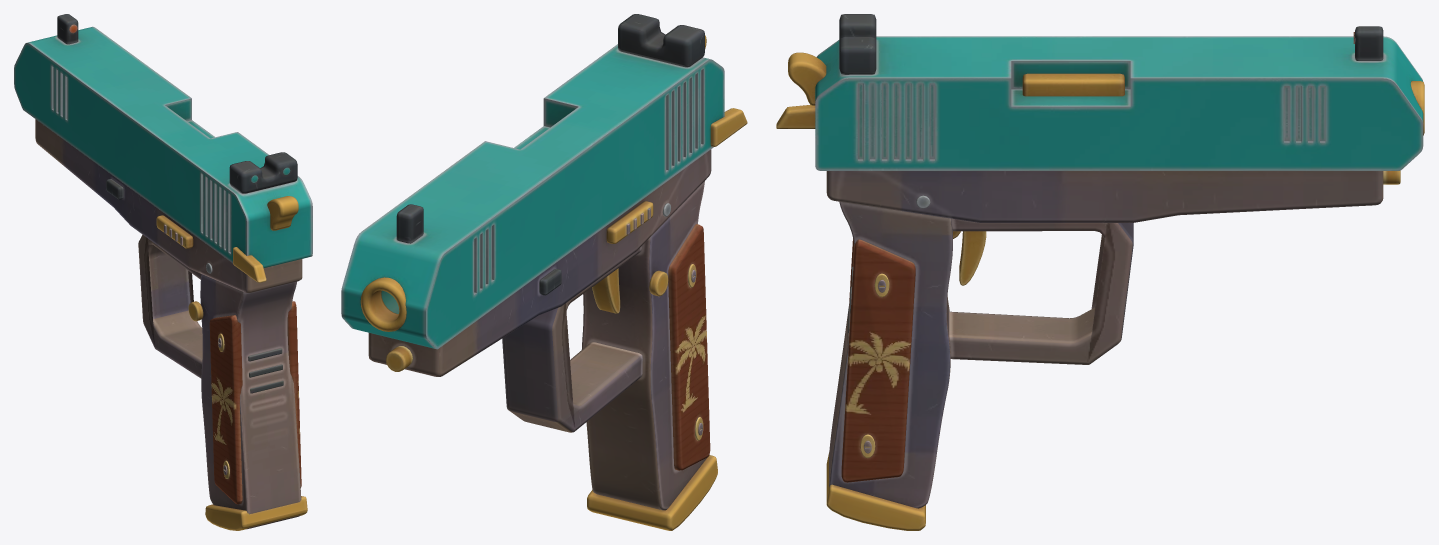
File: pistol.glb
The picture shows the model from 3 angles, left to right: view 1: azimuth 30°, elevation 25°; view 2: azimuth 150°, elevation 25°; view 3: azimuth 270°, elevation 25°; orthographic projection. The views are drawn at different scales.
Visible parts, largest first — view 1: pistol_body, pistol_slide, pistol_mag, pistol_hammer, pistol_release; view 2: pistol_slide, pistol_body, pistol_mag, pistol_release, pistol_trigger; view 3: pistol_slide, pistol_body, pistol_mag, pistol_hammer, pistol_trigger.
Boxes of the visible parts, x1,y1,x2,y2 form: pistol_body: (35,119,302,529); pistol_slide: (14,14,312,267); pistol_mag: (205,496,307,530); pistol_hammer: (267,196,298,230); pistol_release: (156,215,193,248); pistol_slide: (341,14,724,349); pistol_body: (360,108,747,510); pistol_mag: (587,455,717,530); pistol_release: (606,201,653,243); pistol_trigger: (592,268,620,313); pistol_slide: (815,14,1423,170); pistol_body: (776,73,1424,508); pistol_mag: (826,452,925,530); pistol_hammer: (788,52,826,105); pistol_trigger: (959,231,986,285).
Size of the model in its own units: 0.0381 by 0.1873 by 0.2282.
Materials: 1 (1 with a texture image).
